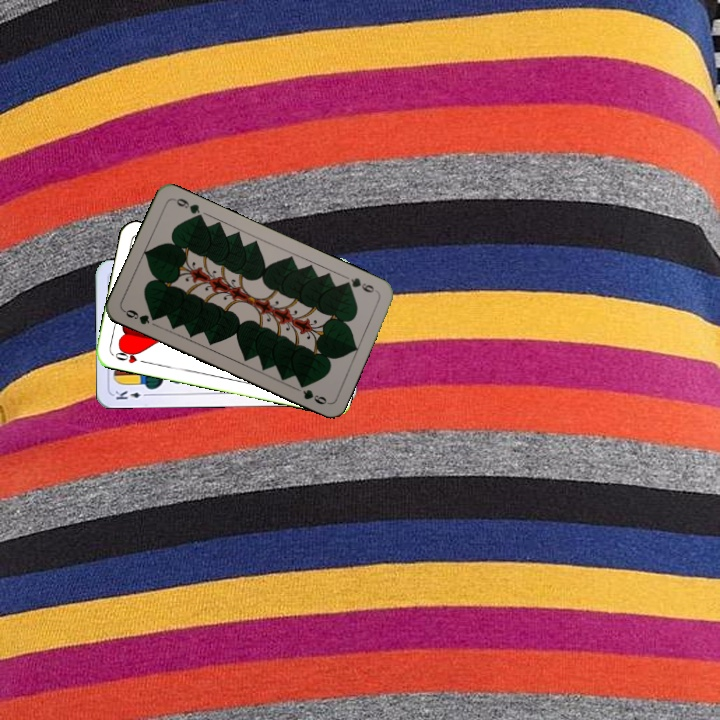EK: (111, 386, 152, 402)
G9: (119, 305, 161, 327), (339, 274, 380, 295)
HO: (110, 345, 150, 366)
